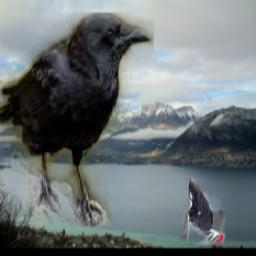Crow: (0, 13, 153, 227)
Woodpecker: (181, 179, 224, 246)
